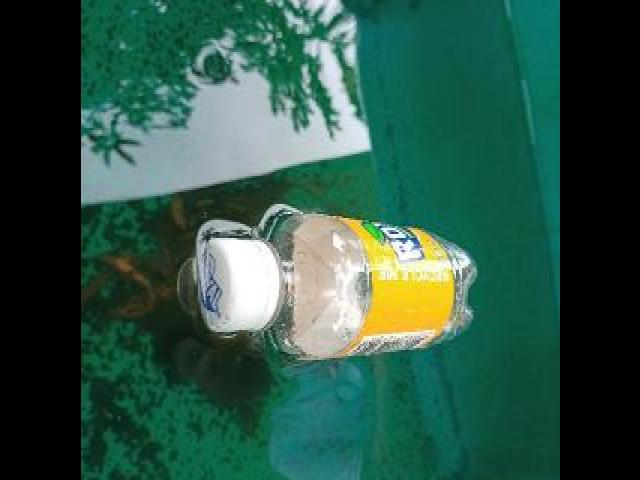Bottle: (196, 206, 482, 368)
